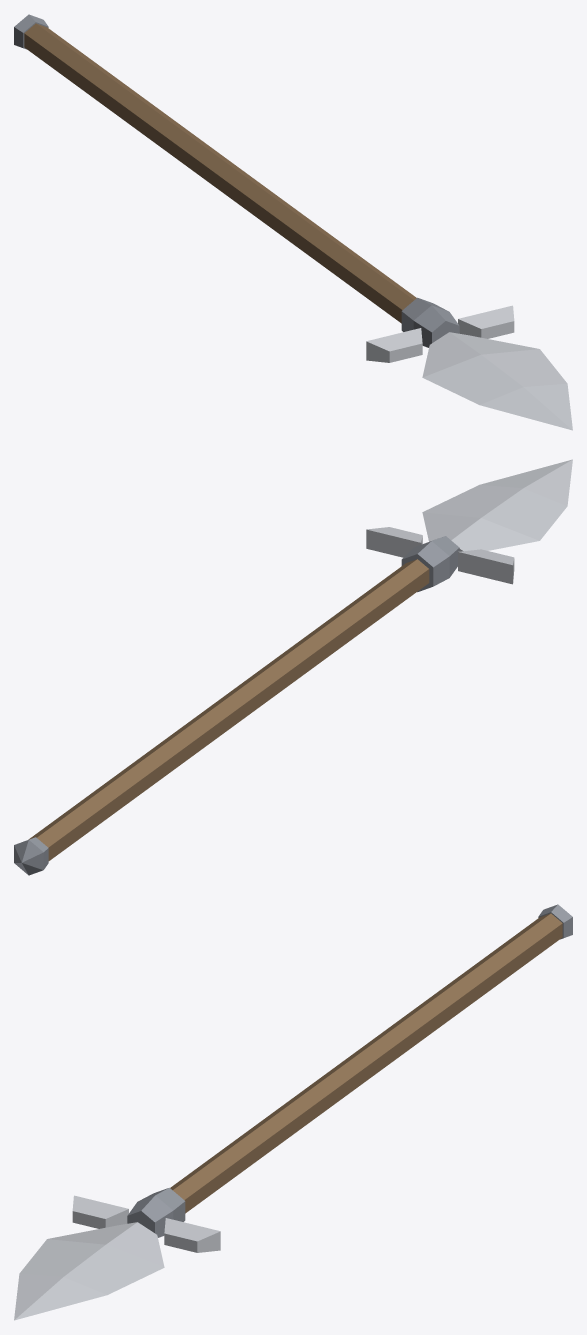
Rendered from boarspear.glb.
3 renders of one model, top to bottom at view 1: azimuth 30°, elevation 25°; view 2: azimuth 150°, elevation 25°; view 3: azimuth 330°, elevation 25°, orthographic.
Parts seen in each view (by area): view 1: boarspear; view 2: boarspear; view 3: boarspear.
Boxes of the visible parts, <box> form: boarspear: <box>14,14,572,430</box>; boarspear: <box>14,459,572,875</box>; boarspear: <box>14,904,572,1320</box>.
Bounding box in the file's own units: 0.24 × 0.068 × 1.56.
